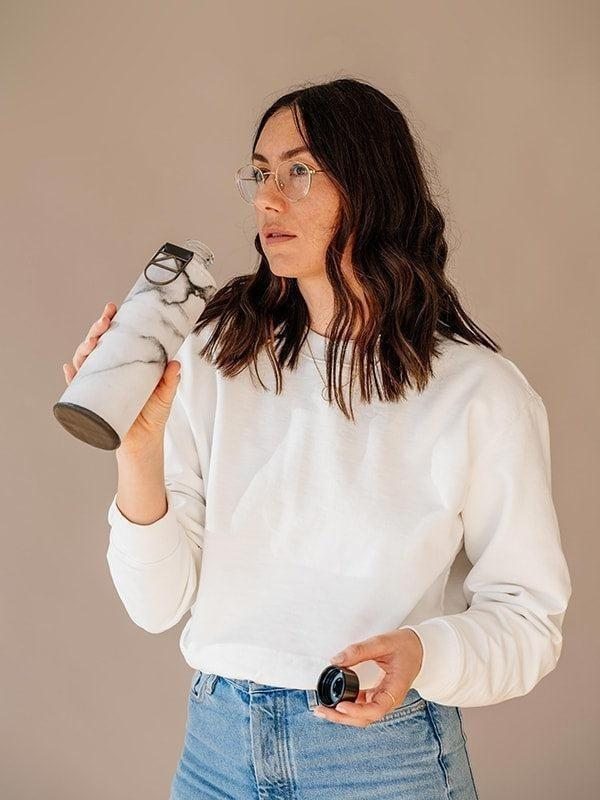gym bottle: (53, 237, 213, 449)
